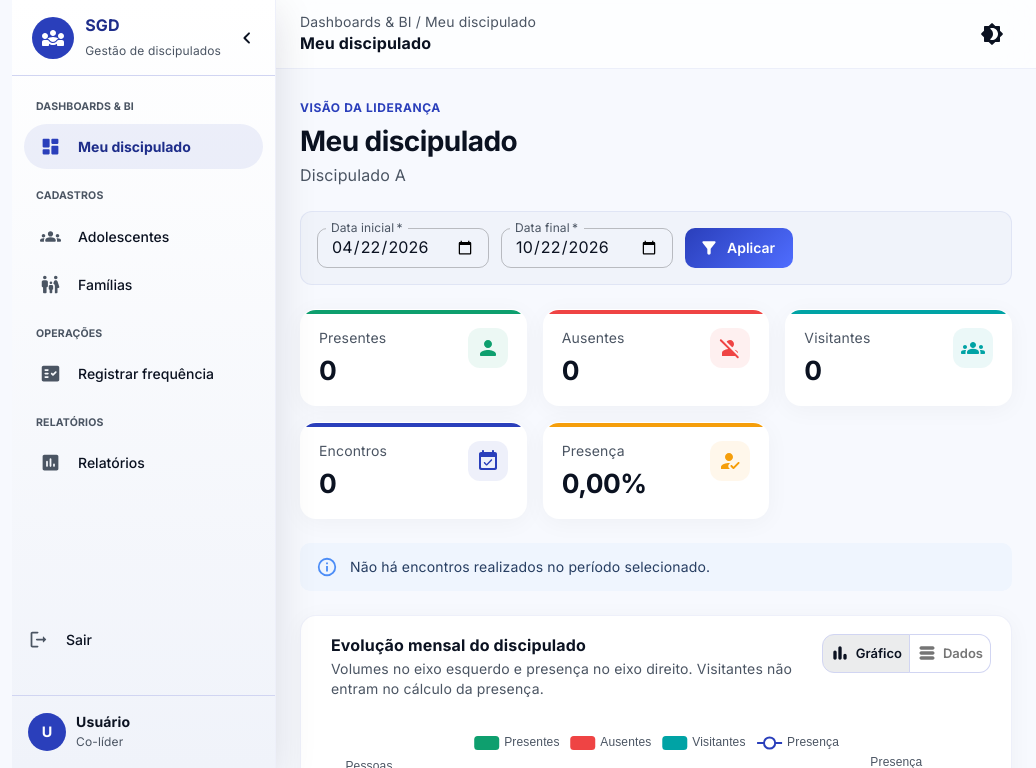
Scenario: navegação autenticada › co-líder também pode registrar que não houve discipulado
The width and height of the screenshot is (1036, 768).
Click the tab "Registrar frequência": (144, 374) left=24, top=351, right=263, bottom=396
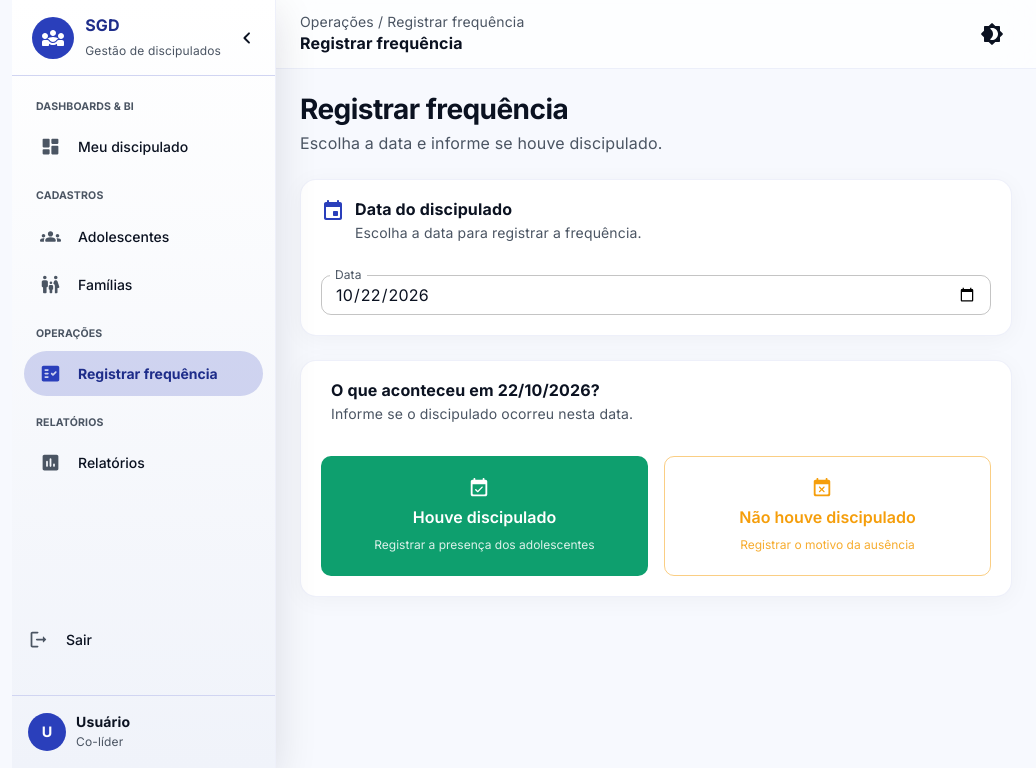
Check: the button "Houve discipulado Registrar a presença dos adolescentes" is shown, box left=321, top=456, right=648, bottom=576
Check: the button "Não houve discipulado Registrar o motivo da ausência" is shown, box left=664, top=456, right=991, bottom=576
